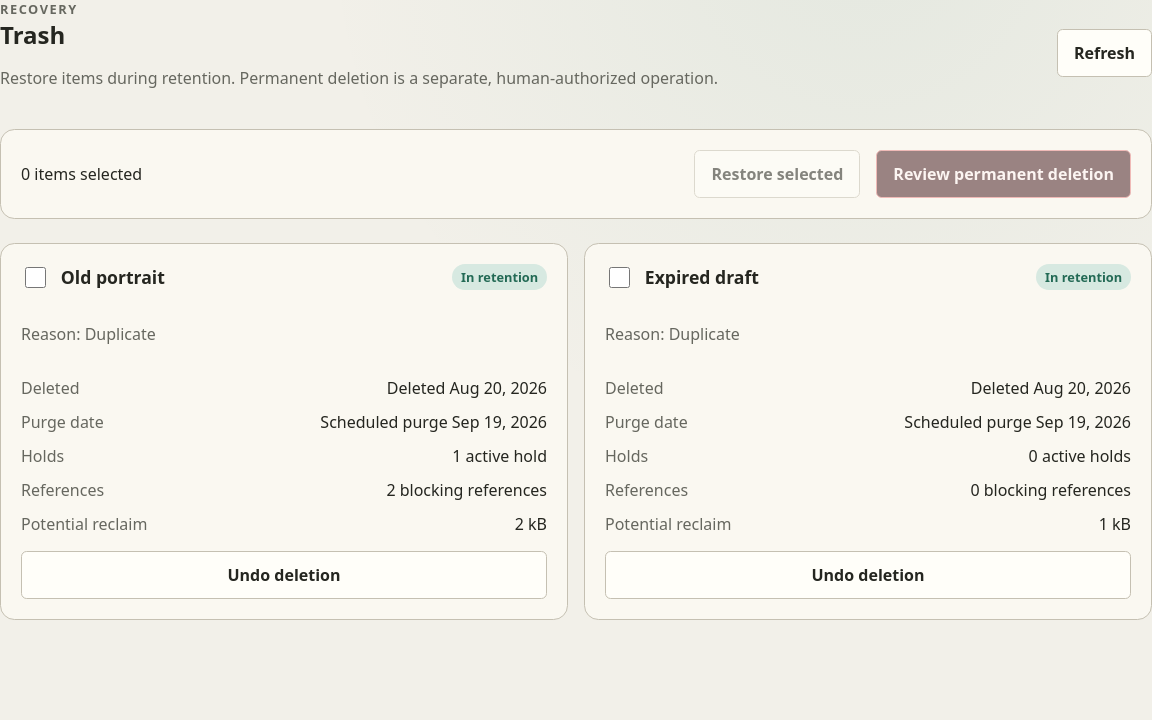
Scenario: trash › shows retention and holds and restores through an undo action
Expected: the text "Deleted Aug 20, 2026" below "Old portrait" is shown, [387, 377, 547, 399]
Expected: the text "Scheduled purge Sep 19, 2026" below "Old portrait" is shown, [320, 411, 547, 433]
Click the button "Undo deletion" below "2 kB" at (284, 575), box [21, 551, 547, 599]
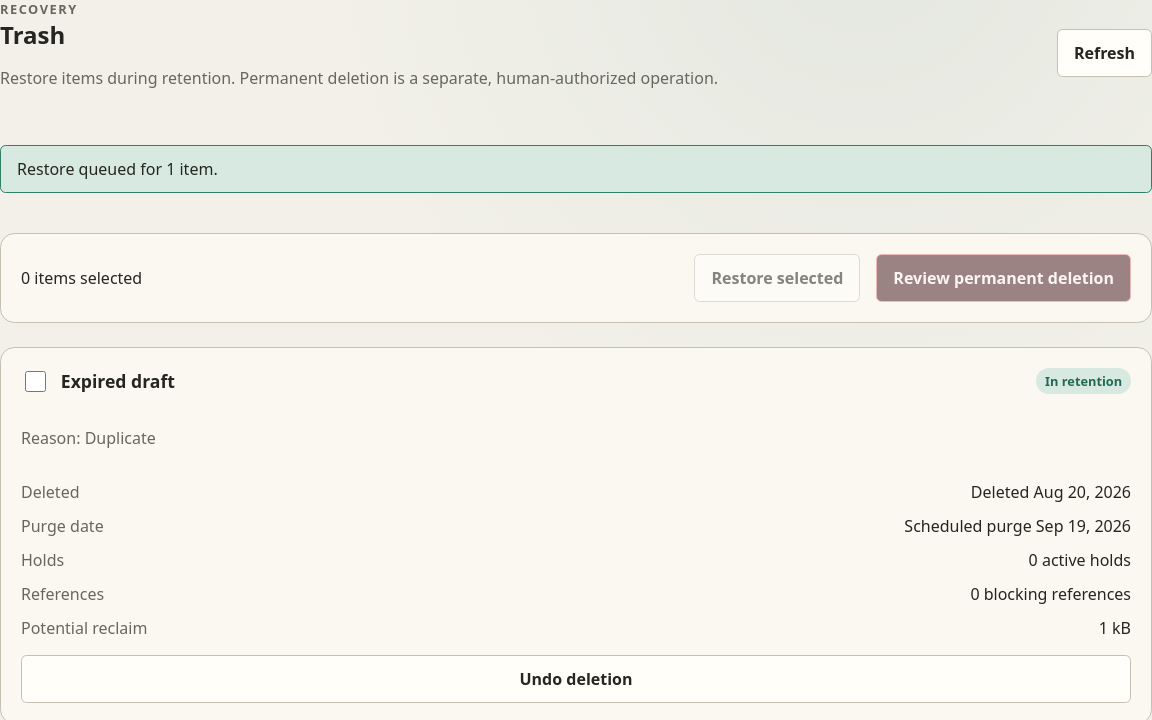
Now the message reads "Restore queued for 1 item.", box [17, 158, 218, 180]
